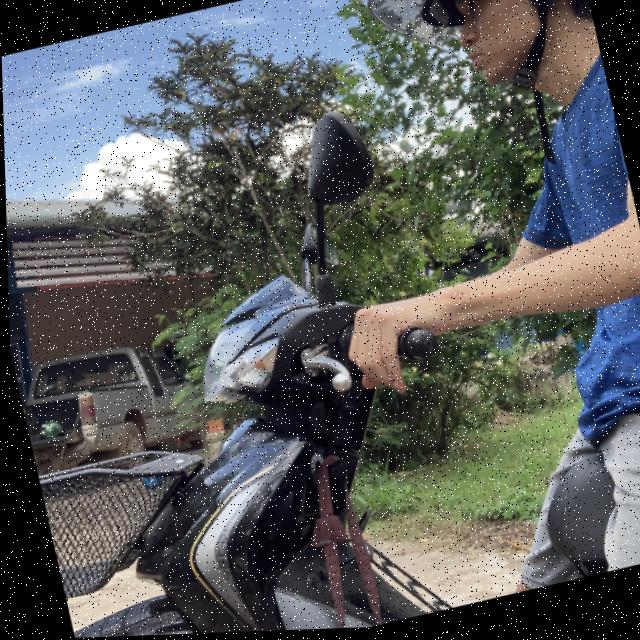helmet: (359, 0, 606, 130)
